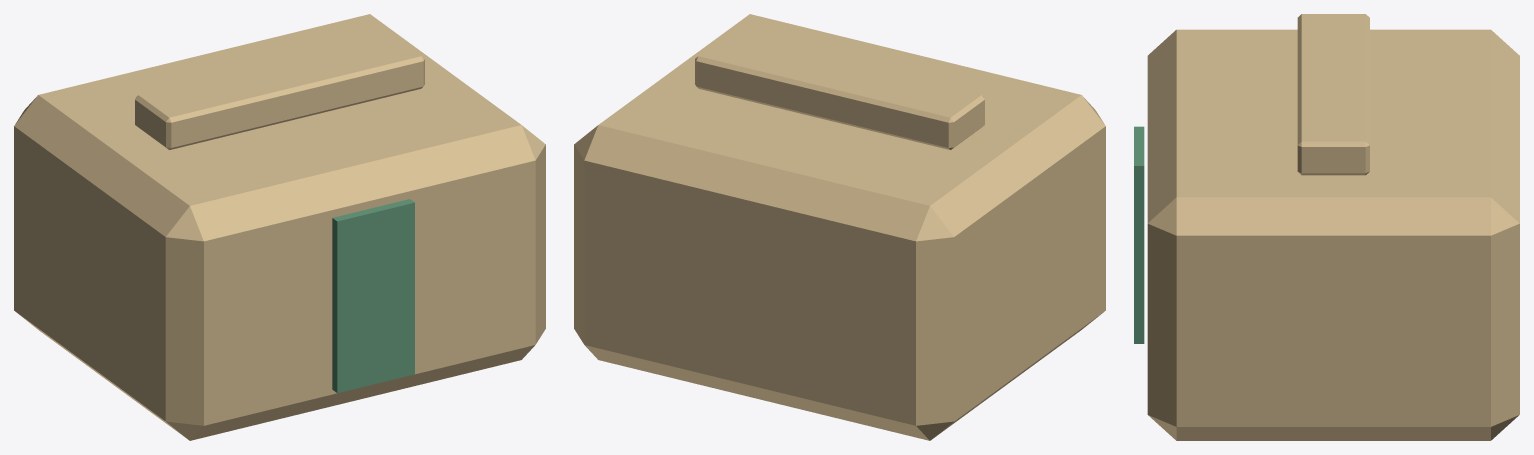
File: fertilizer.glb
3 renders of one model, left to right at view 1: azimuth 30°, elevation 25°; view 2: azimuth 150°, elevation 25°; view 3: azimuth 270°, elevation 25°, orthographic. The views are drawn at different scales.
Visible parts, largest first — view 1: fertilizer / Sand and paper, fertilizer / Industrial green; view 2: fertilizer / Sand and paper; view 3: fertilizer / Sand and paper, fertilizer / Industrial green.
Part boxes in pixels (x1,y1,x2,y2): fertilizer / Sand and paper: (14,14,545,440); fertilizer / Industrial green: (332,199,414,393); fertilizer / Sand and paper: (574,14,1105,440); fertilizer / Sand and paper: (1147,14,1519,440); fertilizer / Industrial green: (1134,126,1144,343).
Bounding box in the file's own units: 0.22 × 0.149 × 0.1865.
